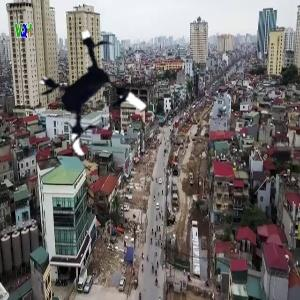drone: (31, 32, 161, 162)
